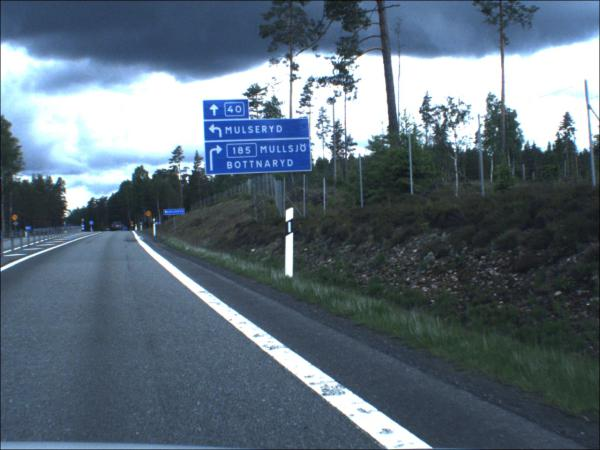70_SIGN: (147, 212, 155, 219), (13, 215, 20, 222), (132, 222, 136, 226)
PASS_RIGHT_SIDE: (91, 222, 96, 227)
PRIORITY_ROAD: (133, 226, 136, 229)
